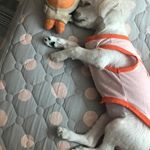puppy: (39, 1, 137, 69)
